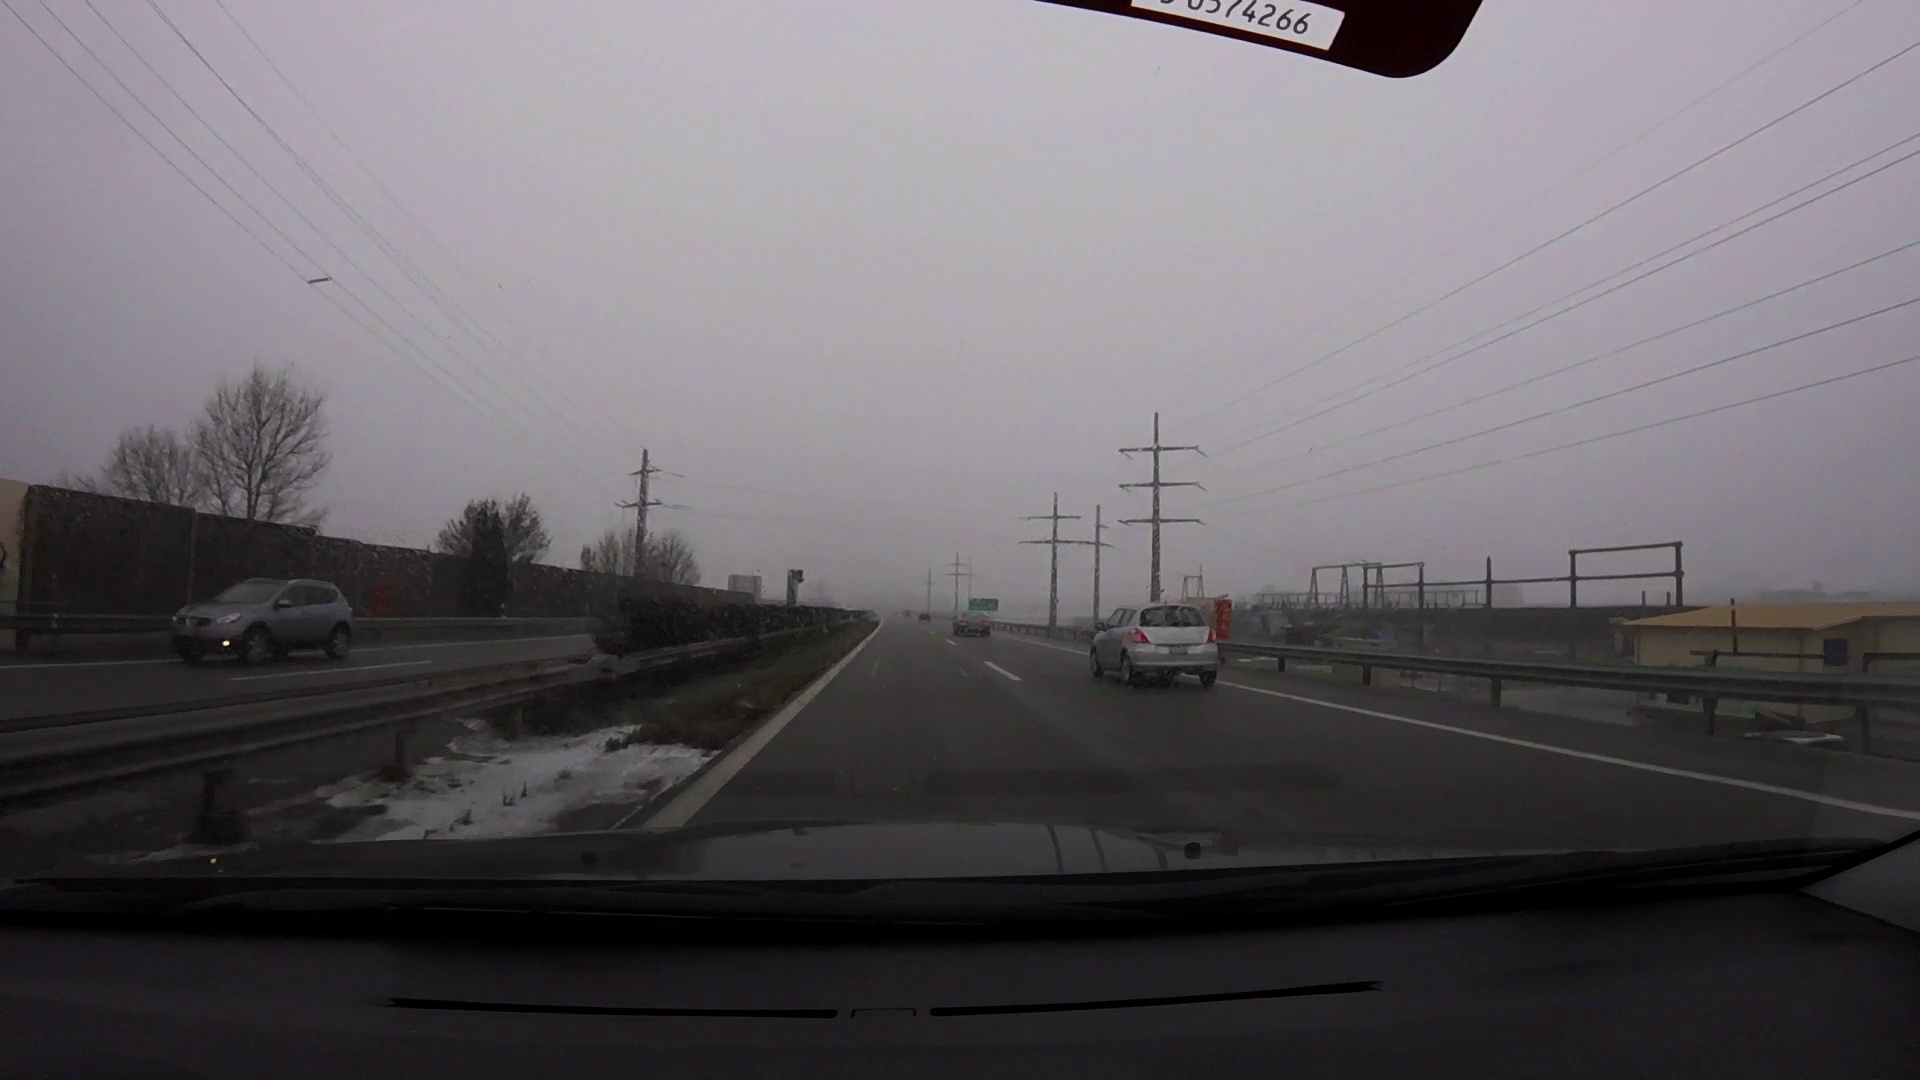radar: (785, 567, 808, 609)
